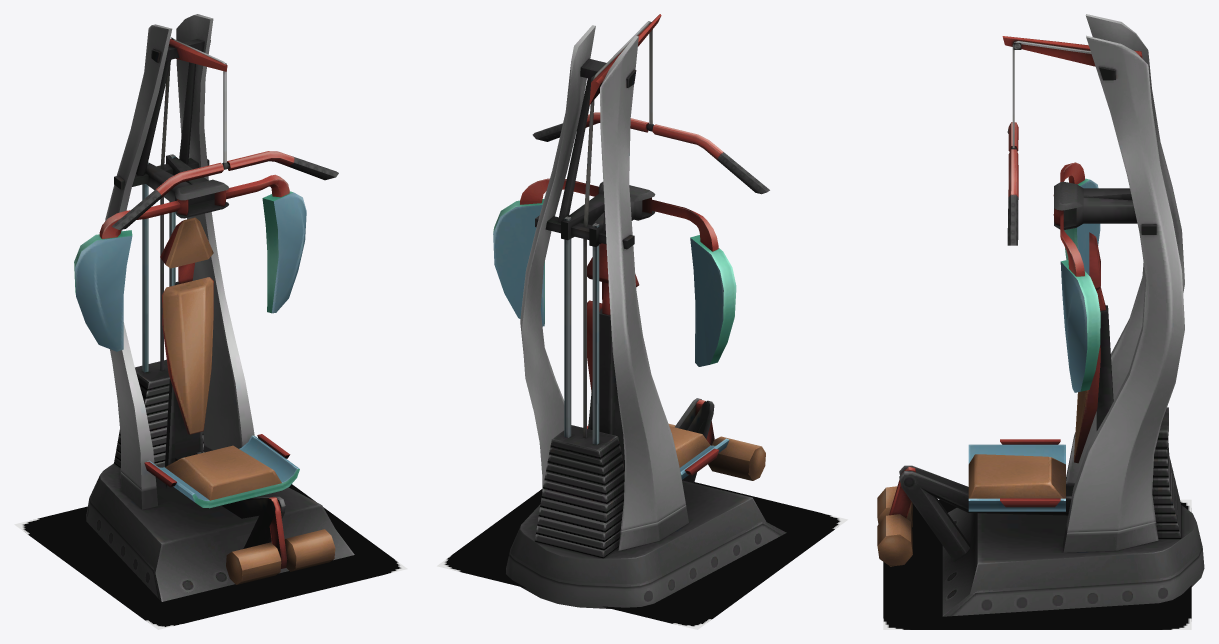
File: jj_ty_jianshengqi01_01.FBX
3 renders of one model, left to right at view 1: azimuth 30°, elevation 25°; view 2: azimuth 150°, elevation 25°; view 3: azimuth 270°, elevation 25°, orthographic. The views are drawn at different scales.
Visible parts, largest first — view 1: s4studio_mesh_1, shadow; view 2: s4studio_mesh_1, shadow; view 3: s4studio_mesh_1, shadow.
Boxes of the visible parts, bbox=[...] form: s4studio_mesh_1: bbox=[74, 14, 354, 601]; shadow: bbox=[14, 484, 407, 629]; s4studio_mesh_1: bbox=[493, 14, 786, 608]; shadow: bbox=[437, 482, 847, 629]; s4studio_mesh_1: bbox=[877, 14, 1204, 616]; shadow: bbox=[883, 499, 1191, 629].
Bounding box in the file's own units: 59.06 × 115 × 62.61.
2 materials, 2 textured.
